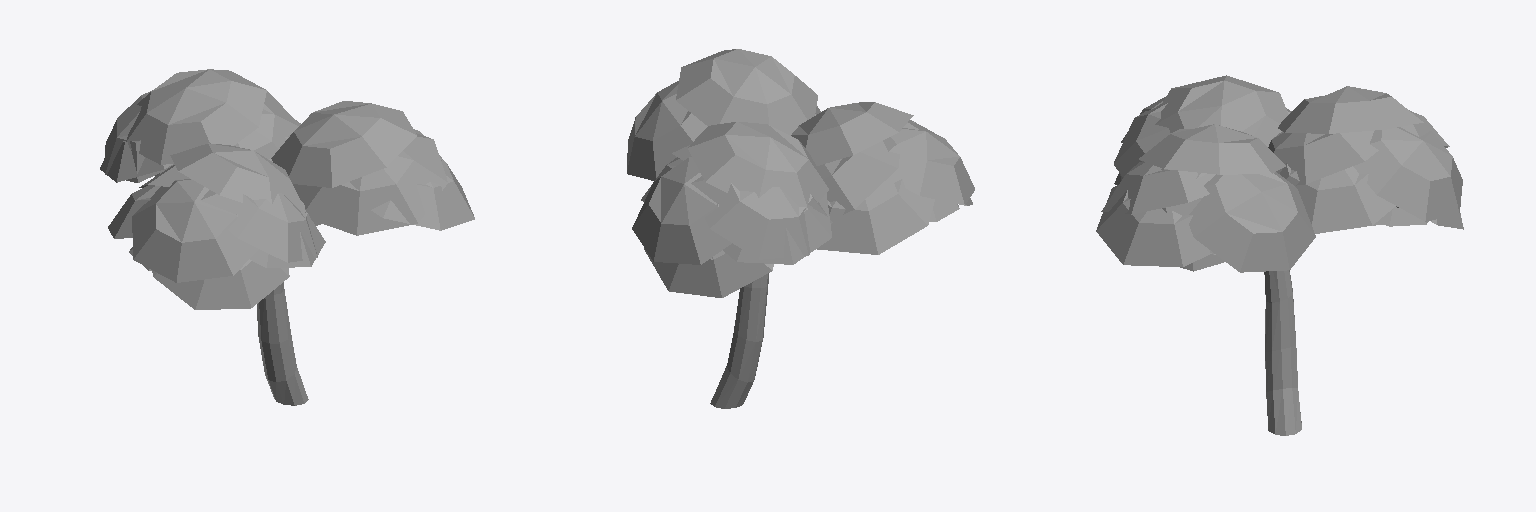
Rendered from Tree_2.obj.
3 views of the same model, side by side, from view 1: azimuth 30°, elevation 25°; view 2: azimuth 150°, elevation 25°; view 3: azimuth 270°, elevation 25° (orthographic).
Parts seen in each view (by area): view 1: Tree_2; view 2: Tree_2; view 3: Tree_2.
Boxes of the visible parts, box(x1,y1,x2,y2) form: Tree_2: box(100, 69, 474, 405); Tree_2: box(627, 49, 974, 408); Tree_2: box(1096, 75, 1463, 435).
Bounding box in the file's own units: 5.89 × 5.43 × 5.87.